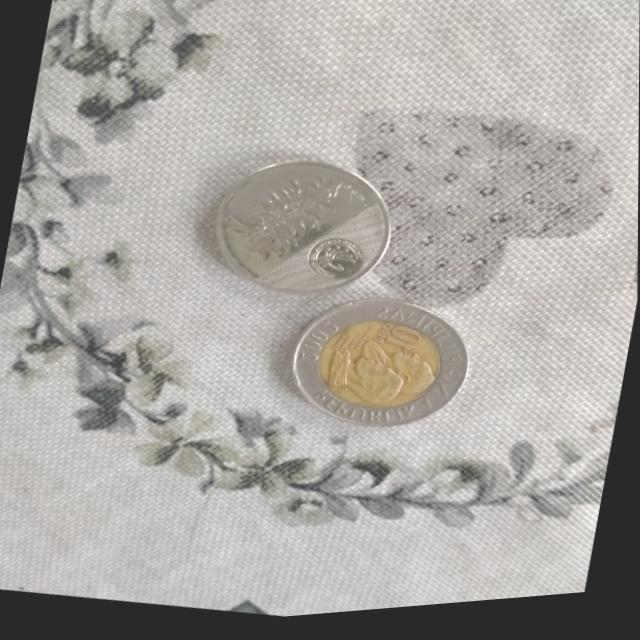10_Old_Front: (287, 288, 478, 449)
